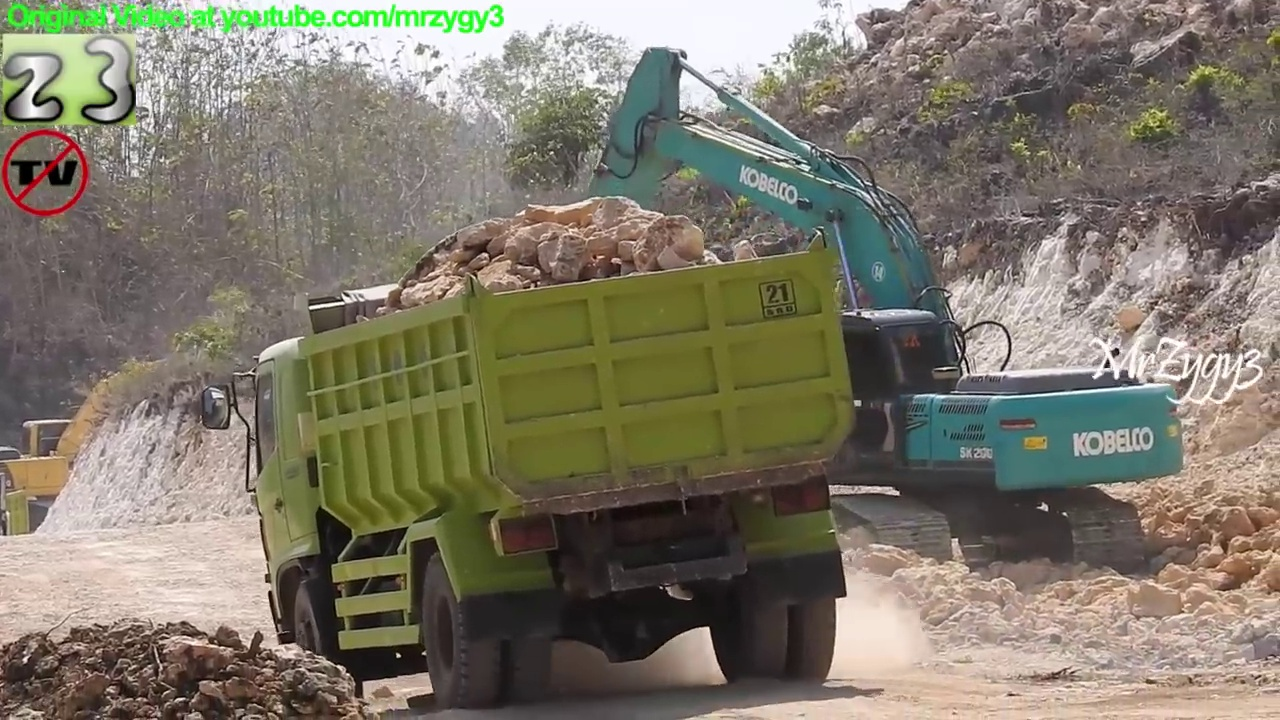excavator: (529, 41, 1192, 589), (1, 354, 195, 523)
truck: (196, 226, 868, 713), (1, 463, 38, 541)
